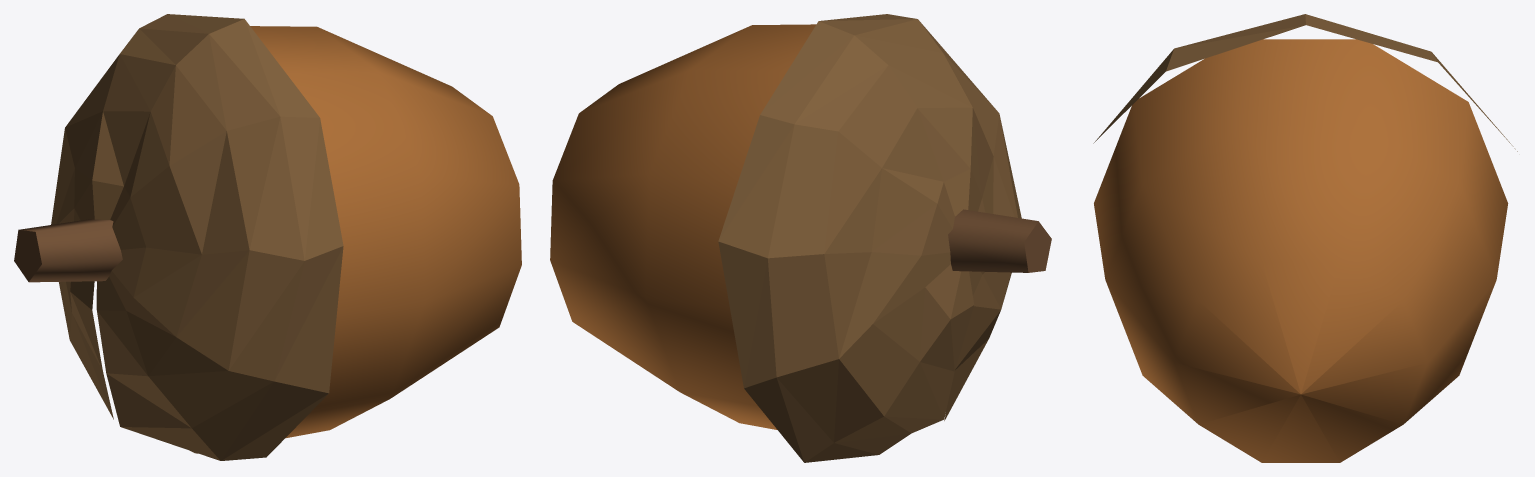
File: acorn.glb
3 renders of one model, left to right at view 1: azimuth 30°, elevation 25°; view 2: azimuth 150°, elevation 25°; view 3: azimuth 270°, elevation 25°, orthographic. The views are drawn at different scales.
Parts seen in each view (by area): view 1: acorn; view 2: acorn; view 3: acorn.
Boxes of the visible parts, x1=… form: acorn: x1=14, y1=14, x2=521, y2=460; acorn: x1=550, y1=14, x2=1051, y2=462; acorn: x1=1093, y1=14, x2=1517, y2=462.
Size of the model in its own units: 5.85 by 4.95 by 4.79.
